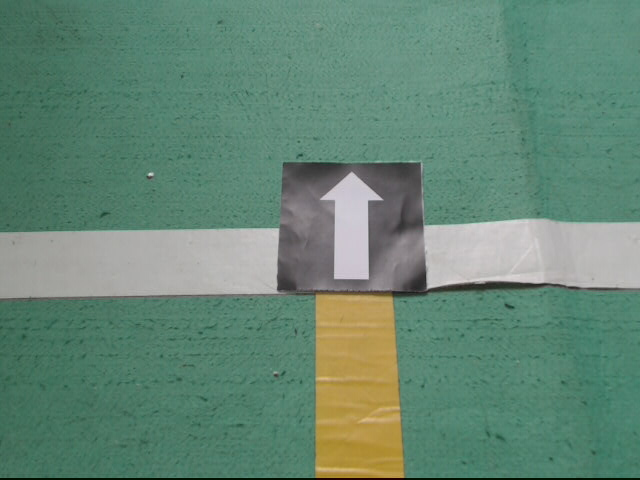straight: (275, 160, 430, 294)
